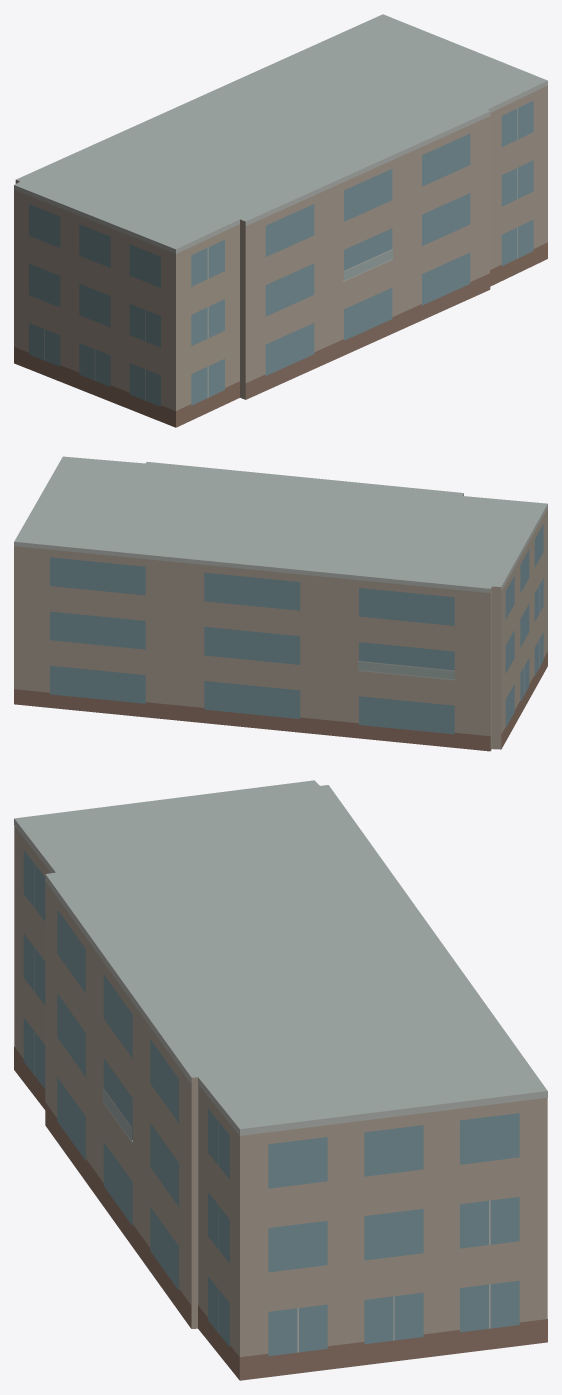
The model's file is survey-upis-32863156.glb.
3 views of the same model, one above another, from view 1: azimuth 30°, elevation 25°; view 2: azimuth 150°, elevation 25°; view 3: azimuth 270°, elevation 25° (orthographic). The views are drawn at different scales.
Visible parts, largest first — view 1: survey-upis-32863156.tmp; view 2: survey-upis-32863156.tmp; view 3: survey-upis-32863156.tmp.
Boxes of the visible parts, x1=… form: survey-upis-32863156.tmp: x1=14, y1=14, x2=547, y2=427; survey-upis-32863156.tmp: x1=14, y1=456, x2=547, y2=751; survey-upis-32863156.tmp: x1=14, y1=780, x2=547, y2=1380.
Size of the model in its own units: 27.26 by 9.15 by 17.62.
